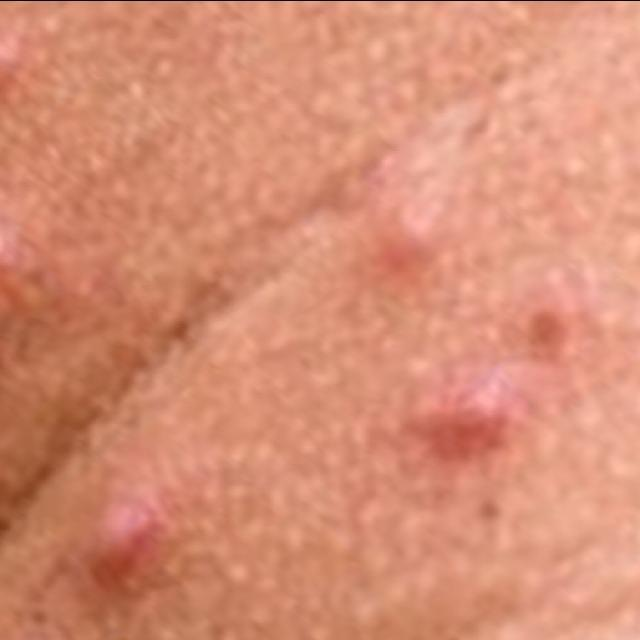acne: (334, 126, 504, 280), (38, 463, 190, 618), (394, 349, 542, 501), (0, 202, 58, 334), (0, 0, 16, 114)
